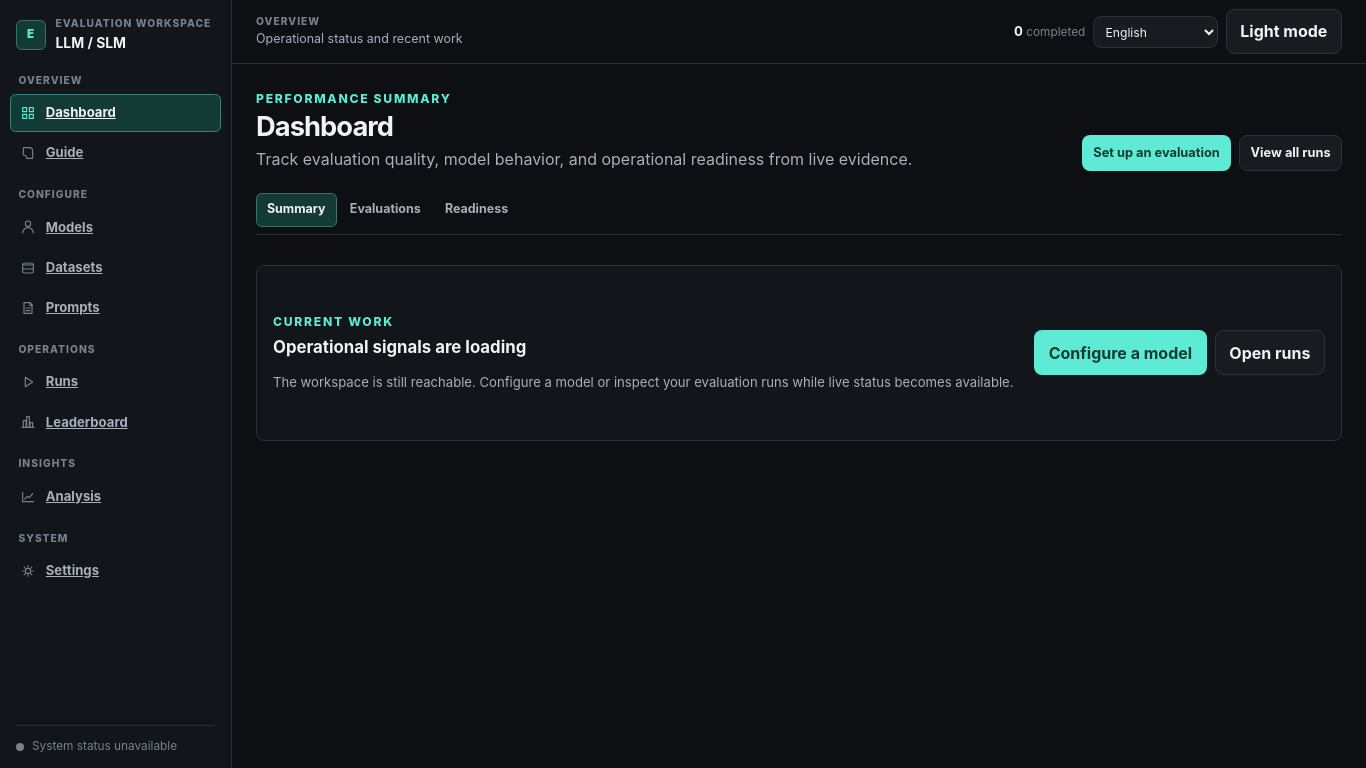
Test case: dataset catalog › previews the first rows of a ready dataset
The image size is (1366, 768).
Step 1. Click the link "Datasets" → [61, 267], box x1=20 y1=259 x2=103 y2=276
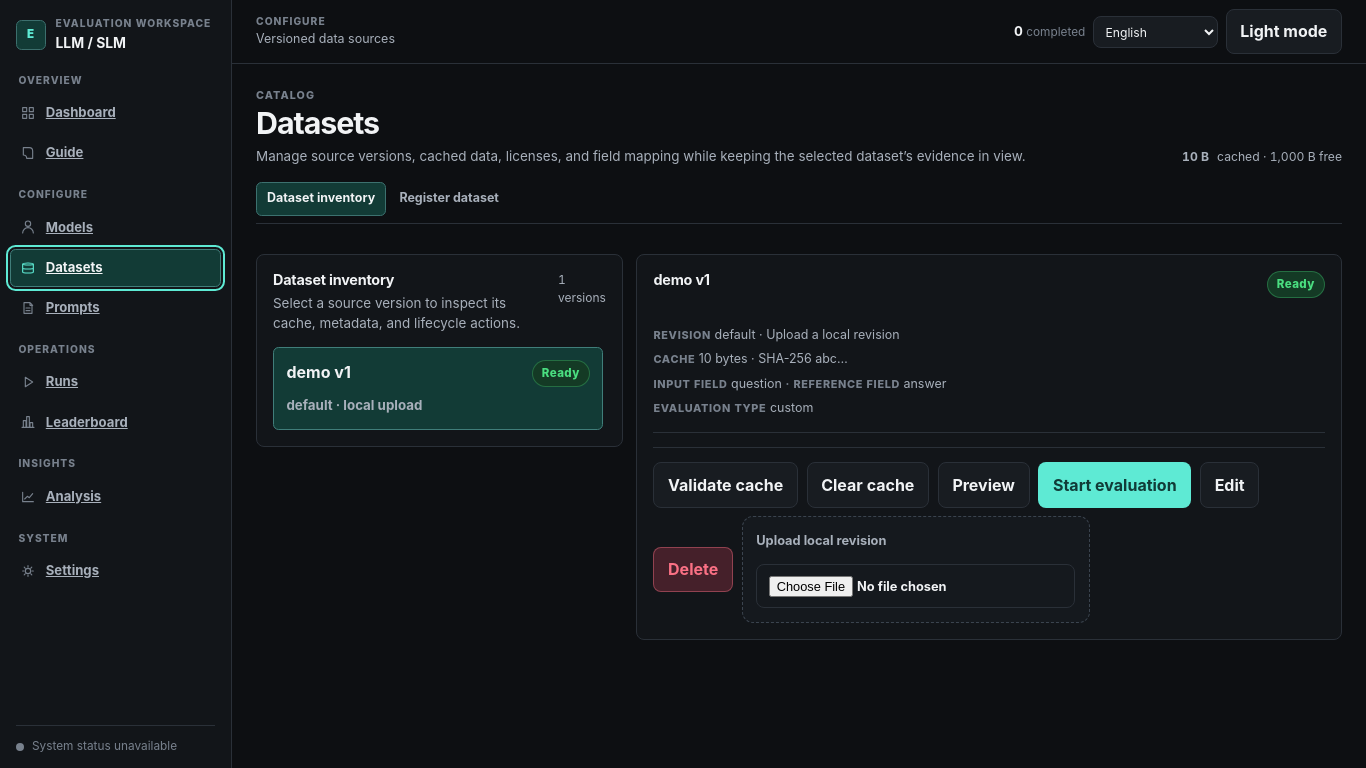
Step 2. Click the button "Preview" → [984, 485], box x1=938 y1=462 x2=1030 y2=508
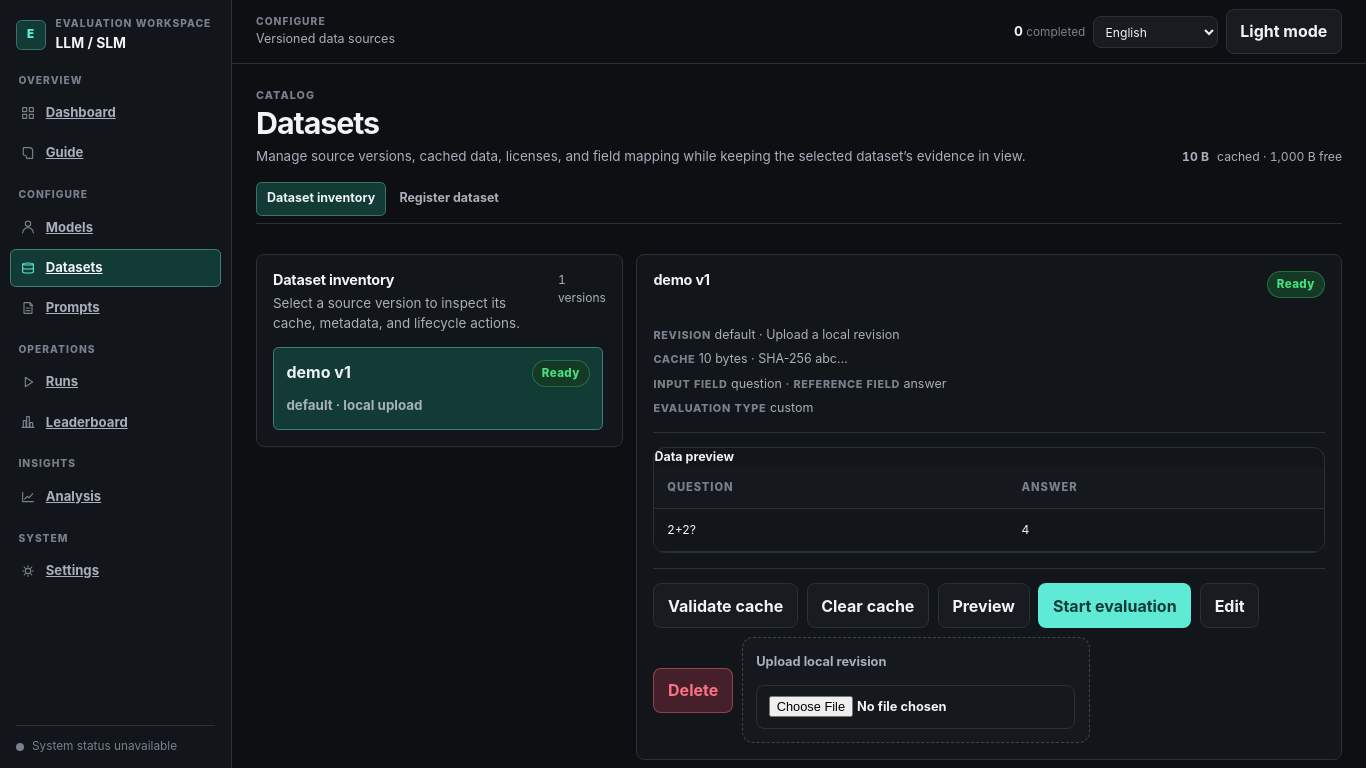
Now the heading "Data preview" is shown, box x1=654 y1=449 x2=734 y2=464
Now the text "2+2?" is shown, box x1=654 y1=508 x2=1009 y2=552
